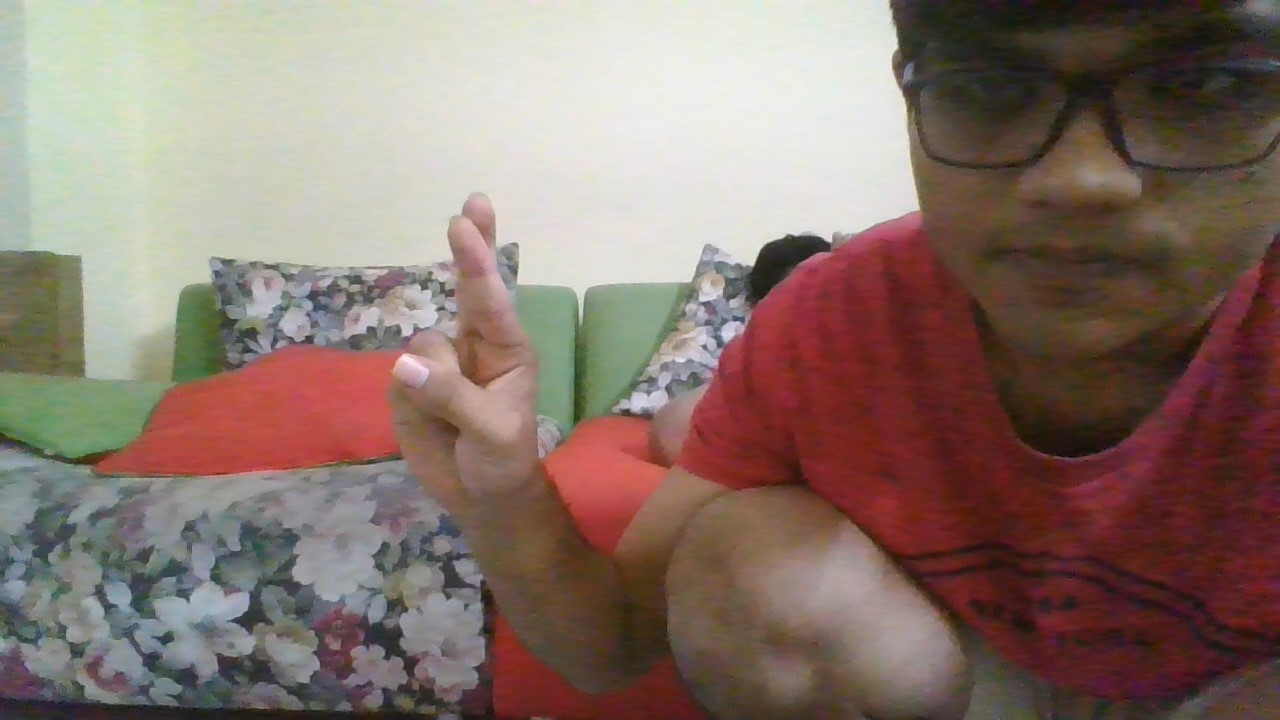r: (387, 188, 544, 513)
